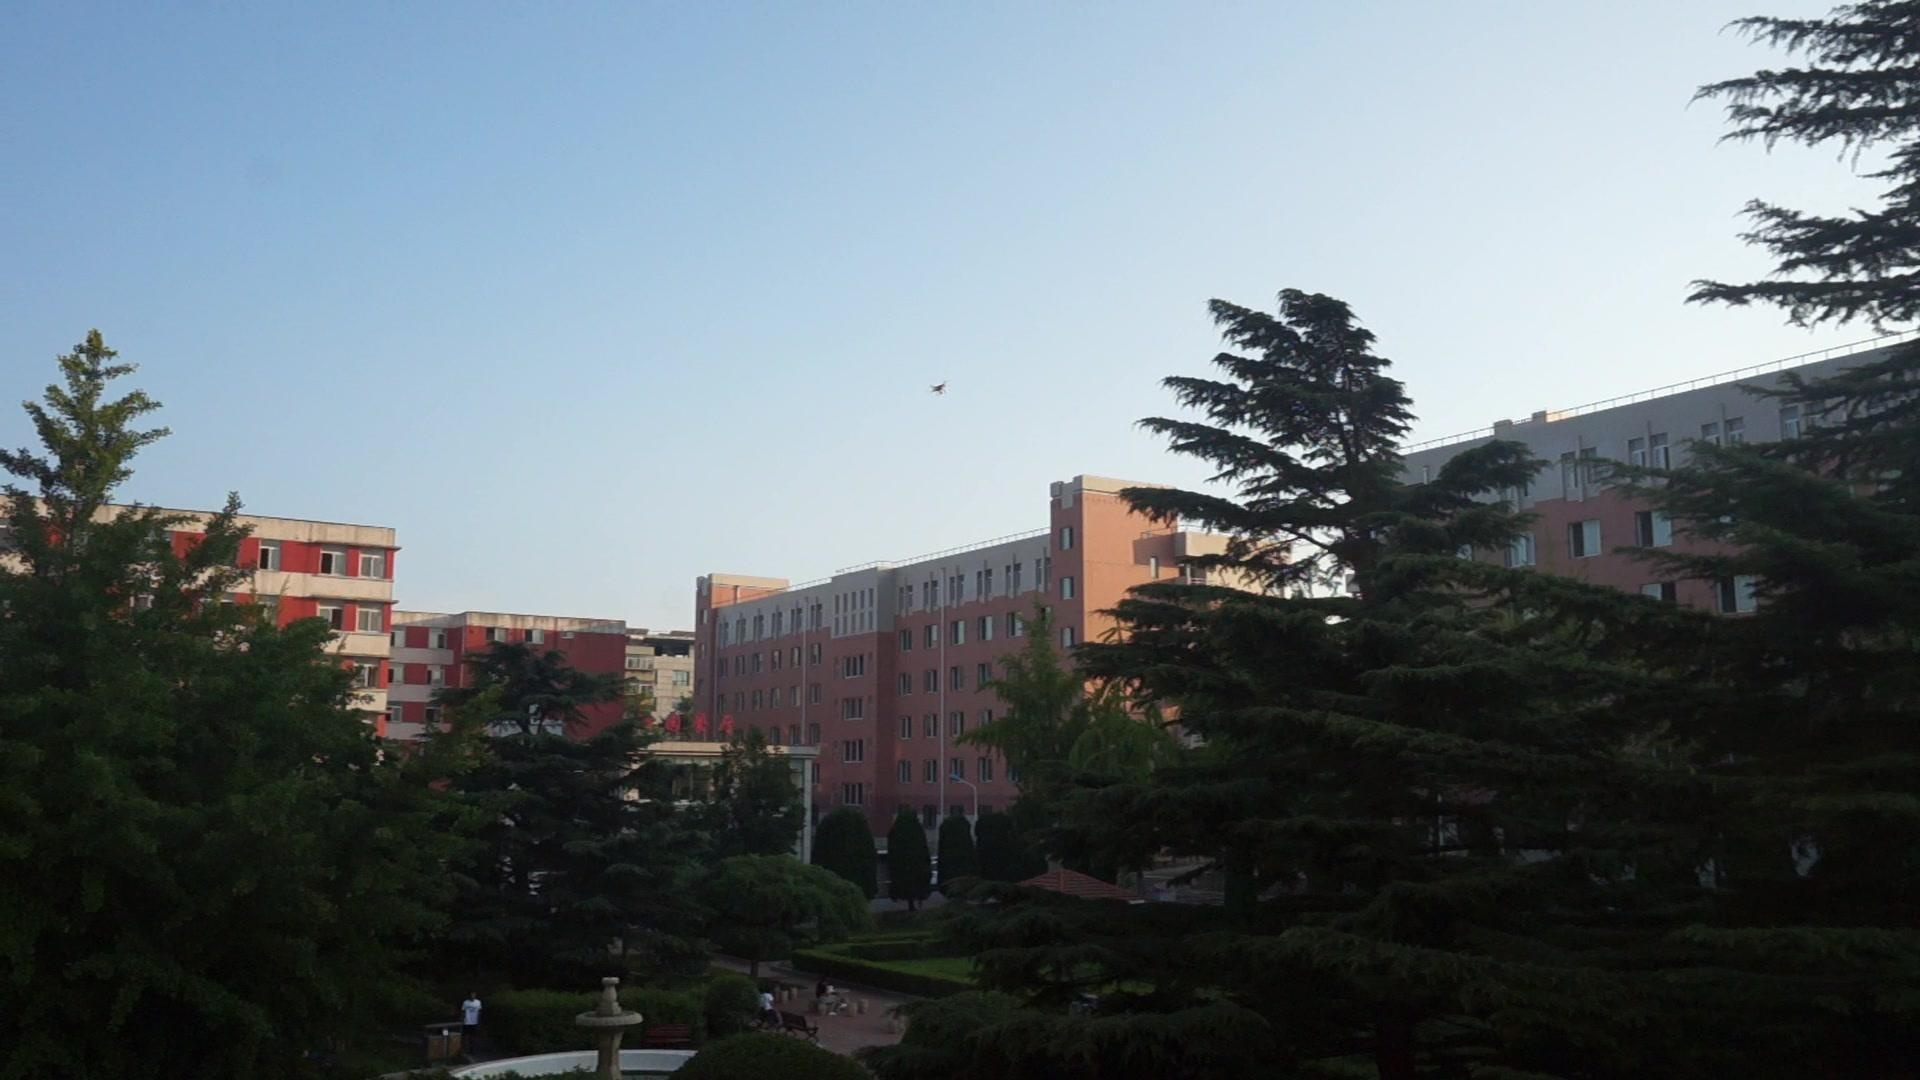UAV: (928, 381, 949, 397)
